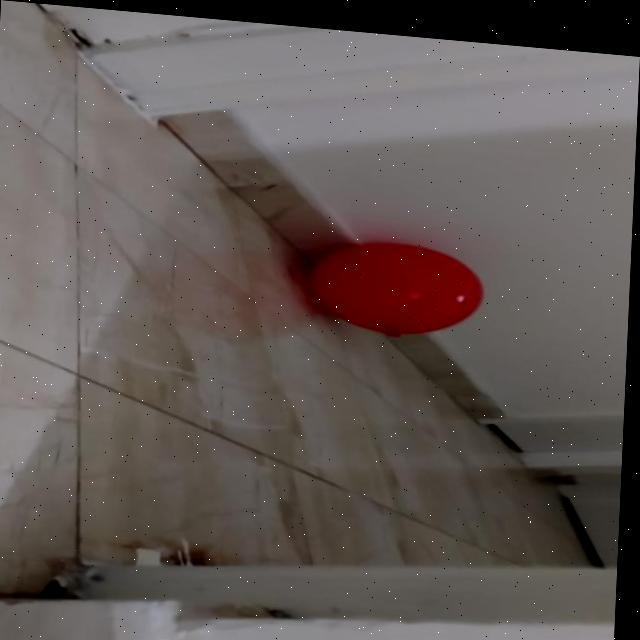balloon: (303, 222, 506, 342)
